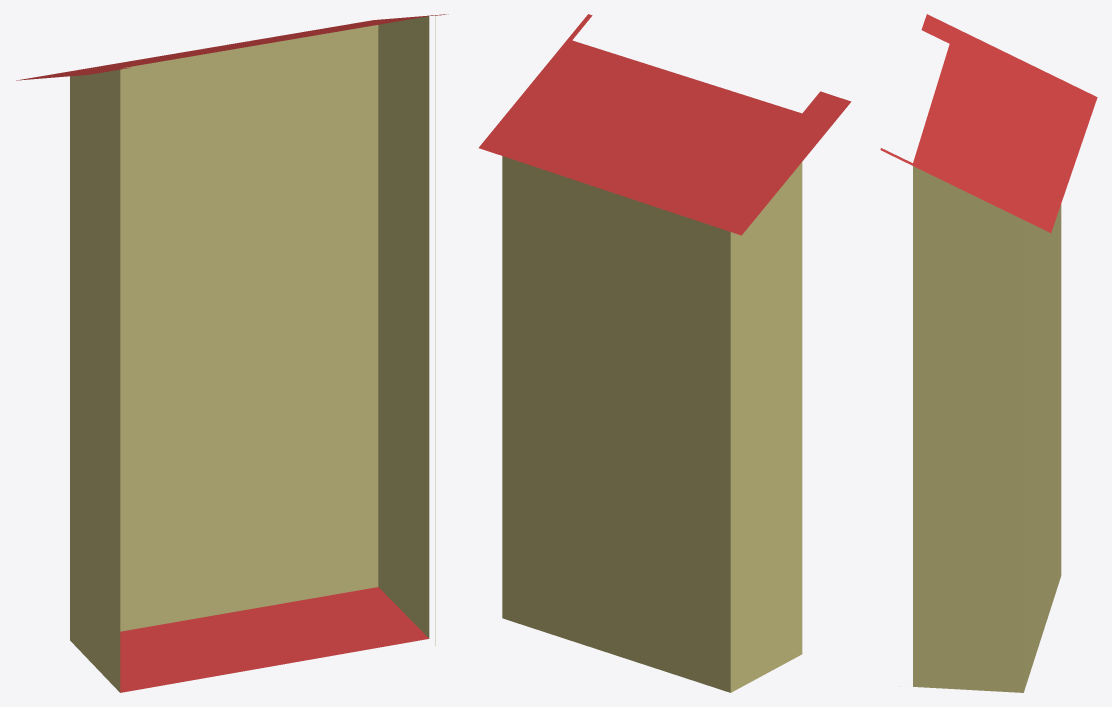
3 renders of one model, left to right at view 1: azimuth 30°, elevation 25°; view 2: azimuth 150°, elevation 25°; view 3: azimuth 270°, elevation 25°, orthographic. The views are drawn at different scales.
Size of the model in its own units: 5.73 by 3.59 by 9.79.
